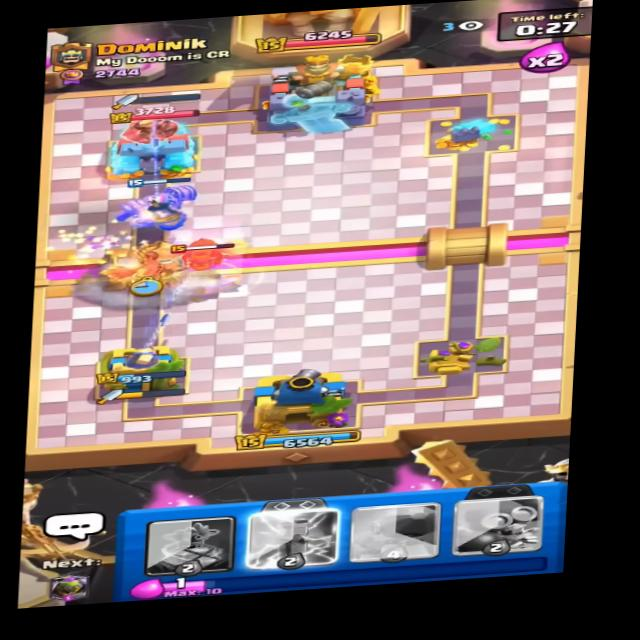lava-hound: (167, 231, 245, 278)
